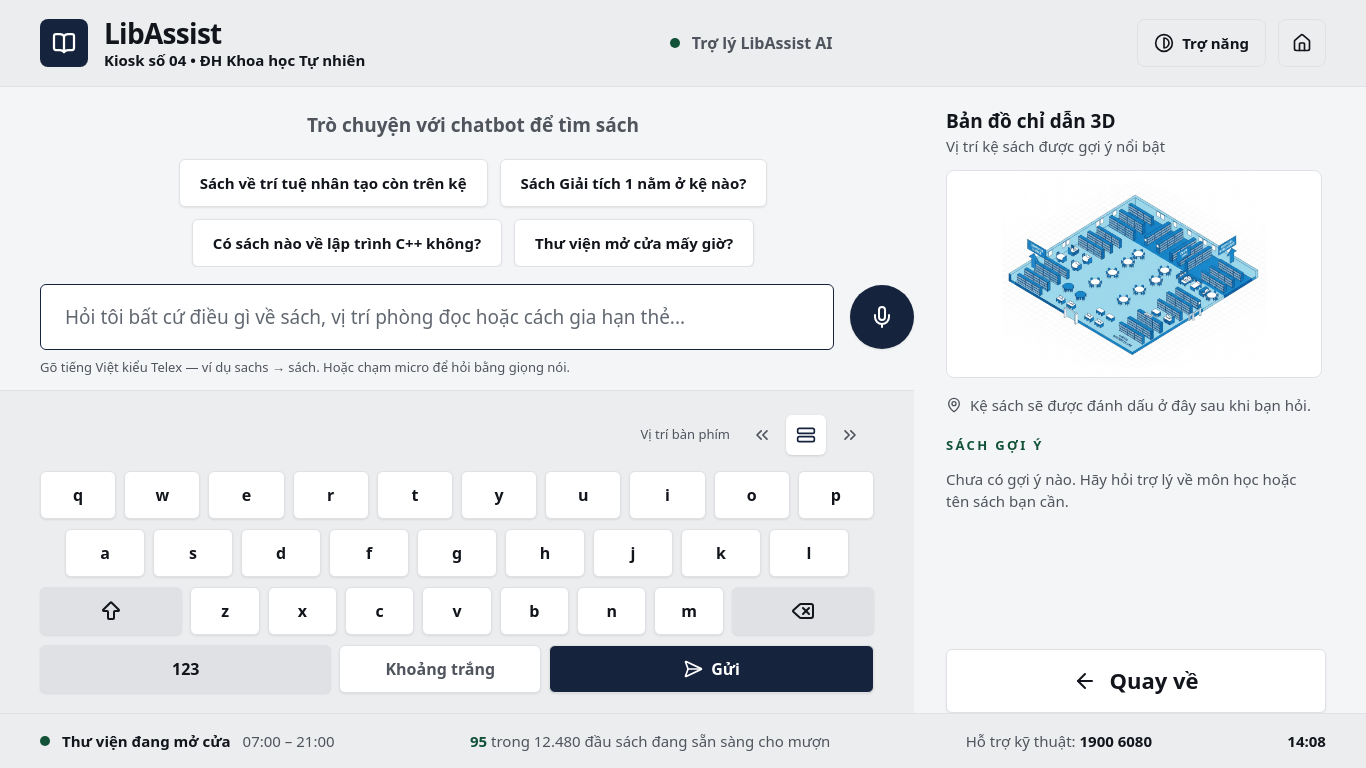
Test: AI chat — asking a question › answers a typed question
(page scrolled)
Step 1. Type "sach vaatj lys" into the field named "Câu hỏi cho trợ lý LibAssist" → (437, 317), box [65,285,809,349]
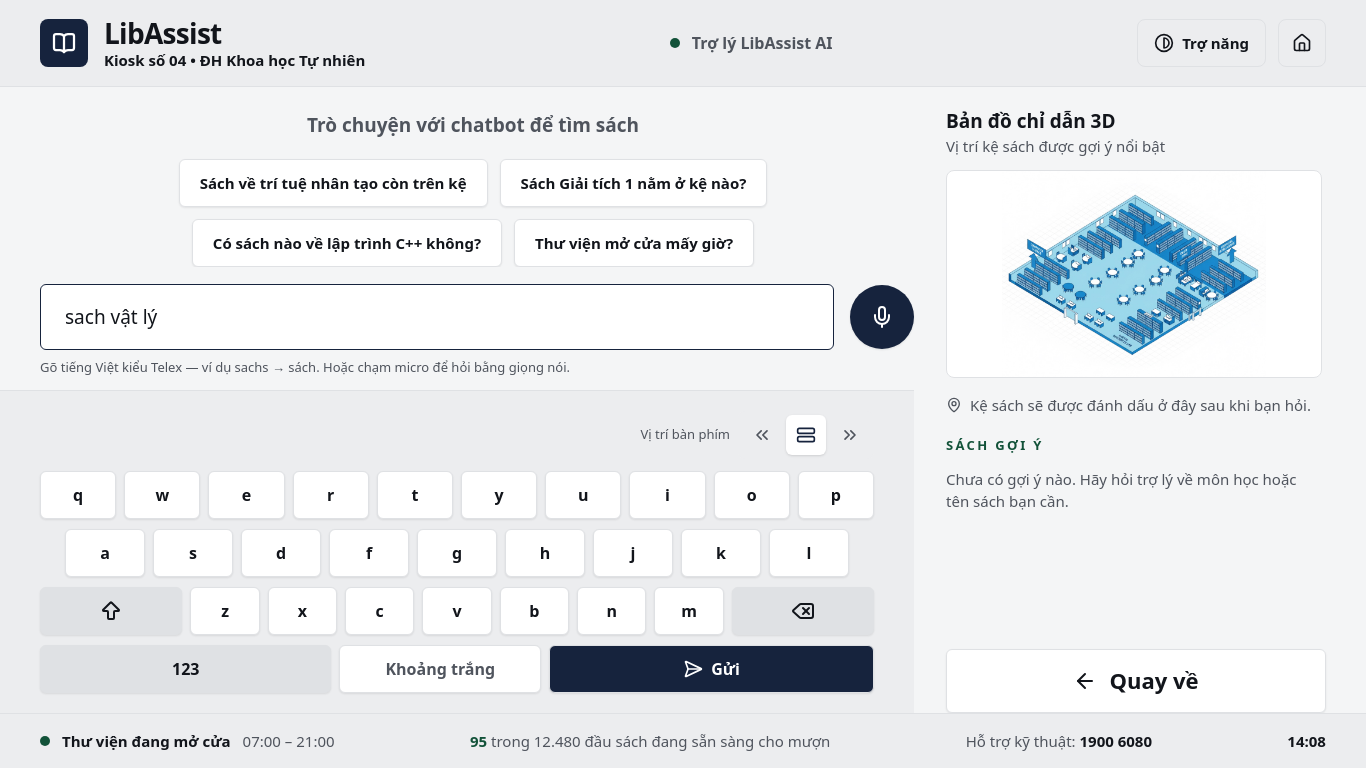
Check: the field named "Câu hỏi cho trợ lý LibAssist" holds "sach vật lý", box [65,285,809,349]
Step 2. Click the button "Gửi" → (712, 668), box [549,644,874,692]
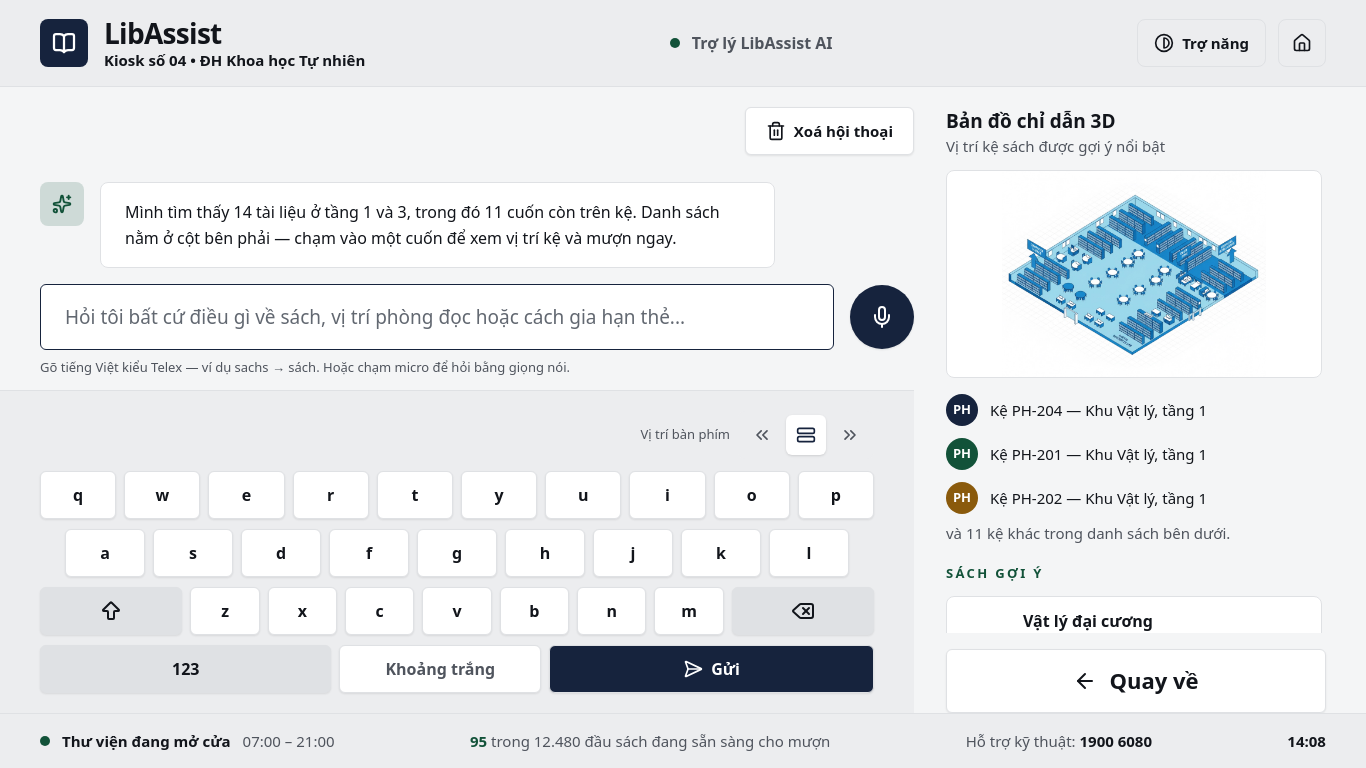
Check: the text "Mình tìm thấy" is shown, box [125,201,720,249]
Check: the field named "Câu hỏi cho trợ lý LibAssist" is empty, box [65,285,809,349]
